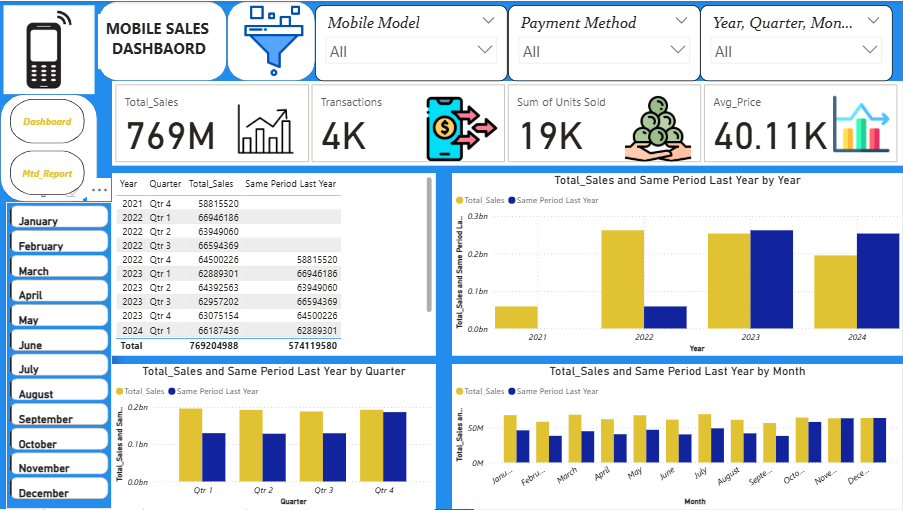

What the dashboard file says about the page in this screenshot:
{"tool":"powerbi","page":{"name":"Same_Period And Last Year","canvas":[1280,720],"ordinal":2},"visuals":[{"type":"image","box":[0,0,138.8,138.8],"z":0},{"type":"shape","box":[0,131.5,138.2,153.1],"z":1000},{"type":"cardVisual","fields":{"Data":["Sales_Data.Total_Sales","Sales_Data.Transactions","Sum(Sales_Data.Units Sold)","Sales_Data.Avg_Price"]},"box":[158.7,113.4,1121.1,120.5],"z":2000},{"type":"slicer","fields":{"Values":["Sales_Data.Mobile Model"]},"box":[447,5.1,272.6,108.4],"z":3000},{"type":"slicer","fields":{"Values":["Sales_Data.Payment Method"]},"box":[719.6,5.1,272.6,108.4],"z":4000},{"type":"slicer","fields":{"Values":["Custom_calender.Date.Variation.Date Hierarchy.Year","Custom_calender.Date.Variation.Date Hierarchy.Quarter","Custom_calender.Date.Variation.Date Hierarchy.Month","Custom_calender.Date.Variation.Date Hierarchy.Day"]},"box":[992.2,5.1,272.6,108.4],"z":5000},{"type":"shape","box":[321.7,0,125.3,113.4],"z":6000},{"type":"image","box":[321.7,0,132.1,113.4],"z":7000},{"type":"shape","box":[138.8,0,182.9,113.4],"z":8000},{"type":"textbox","box":[138.8,18.6,172.7,77.9],"z":9000},{"type":"advancedSlicerVisual","fields":{"Values":["Custom_calender.Date.Variation.Date Hierarchy.Month"]},"box":[8.3,285,150,435],"z":10000},{"type":"tableEx","fields":{"Values":["Custom_calender.Date.Variation.Date Hierarchy.Year","Custom_calender.Date.Variation.Date Hierarchy.Quarter","Sales_Data.Total_Sales","Sales_Data.Same Period Last Year"]},"box":[158.7,243.8,459.2,259.4],"z":11000},{"type":"clusteredColumnChart","fields":{"Category":["Custom_calender.Date.Variation.Date Hierarchy.Year","Custom_calender.Date.Variation.Date Hierarchy.Quarter"],"Y":["Sales_Data.Total_Sales","Sales_Data.Same Period Last Year"]},"box":[640.6,243.8,639.2,259.4],"z":12000},{"type":"clusteredColumnChart","fields":{"Category":["Custom_calender.Date.Variation.Date Hierarchy.Quarter"],"Y":["Sales_Data.Total_Sales","Sales_Data.Same Period Last Year"]},"box":[158.7,514.5,459.2,205.5],"z":13000},{"type":"clusteredColumnChart","fields":{"Y":["Sales_Data.Total_Sales","Sales_Data.Same Period Last Year"],"Category":["Custom_calender.Date.Variation.Date Hierarchy.Month"]},"box":[640.6,514.5,639.2,205.5],"z":14000},{"type":"pageNavigator","box":[8.5,138.9,117.6,136.1],"z":15000}]}

Visuals, with their boxes in screenshot pixels (x1, y1, x2, y2), scaled from the page's 1280x720 canvas onto the 903x510 screenshot:
image: locate(0, 0, 98, 98)
shape: locate(0, 93, 97, 202)
cardVisual - Sales_Data.Total_Sales x Sales_Data.Transactions: locate(112, 80, 902, 166)
slicer - Sales_Data.Mobile Model: locate(315, 4, 508, 80)
slicer - Sales_Data.Payment Method: locate(508, 4, 700, 80)
slicer - Custom_calender.Date.Variation.Date Hierarchy.Year x Custom_calender.Date.Variation.Date Hierarchy.Quarter: locate(700, 4, 892, 80)
shape: locate(227, 0, 315, 80)
image: locate(227, 0, 320, 80)
shape: locate(98, 0, 227, 80)
textbox: locate(98, 13, 220, 68)
advancedSlicerVisual - Custom_calender.Date.Variation.Date Hierarchy.Month: locate(6, 202, 112, 509)
tableEx - Custom_calender.Date.Variation.Date Hierarchy.Year x Custom_calender.Date.Variation.Date Hierarchy.Quarter: locate(112, 173, 436, 356)
clusteredColumnChart - Custom_calender.Date.Variation.Date Hierarchy.Year x Custom_calender.Date.Variation.Date Hierarchy.Quarter: locate(452, 173, 902, 356)
clusteredColumnChart - Custom_calender.Date.Variation.Date Hierarchy.Quarter x Sales_Data.Total_Sales: locate(112, 364, 436, 509)
clusteredColumnChart - Sales_Data.Total_Sales x Sales_Data.Same Period Last Year: locate(452, 364, 902, 509)
pageNavigator: locate(6, 98, 89, 195)
